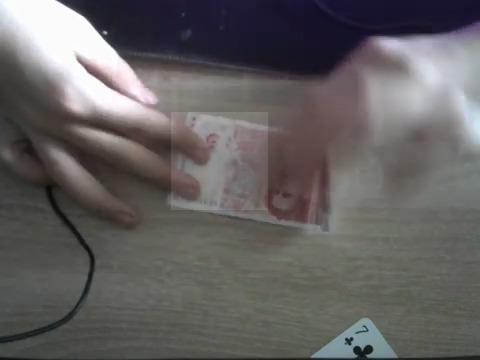5leva: (171, 112, 268, 210)
